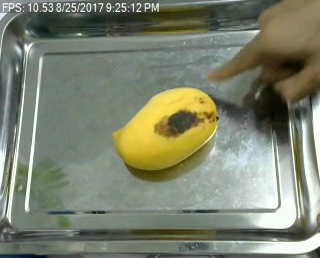Mango: (111, 85, 218, 174)
